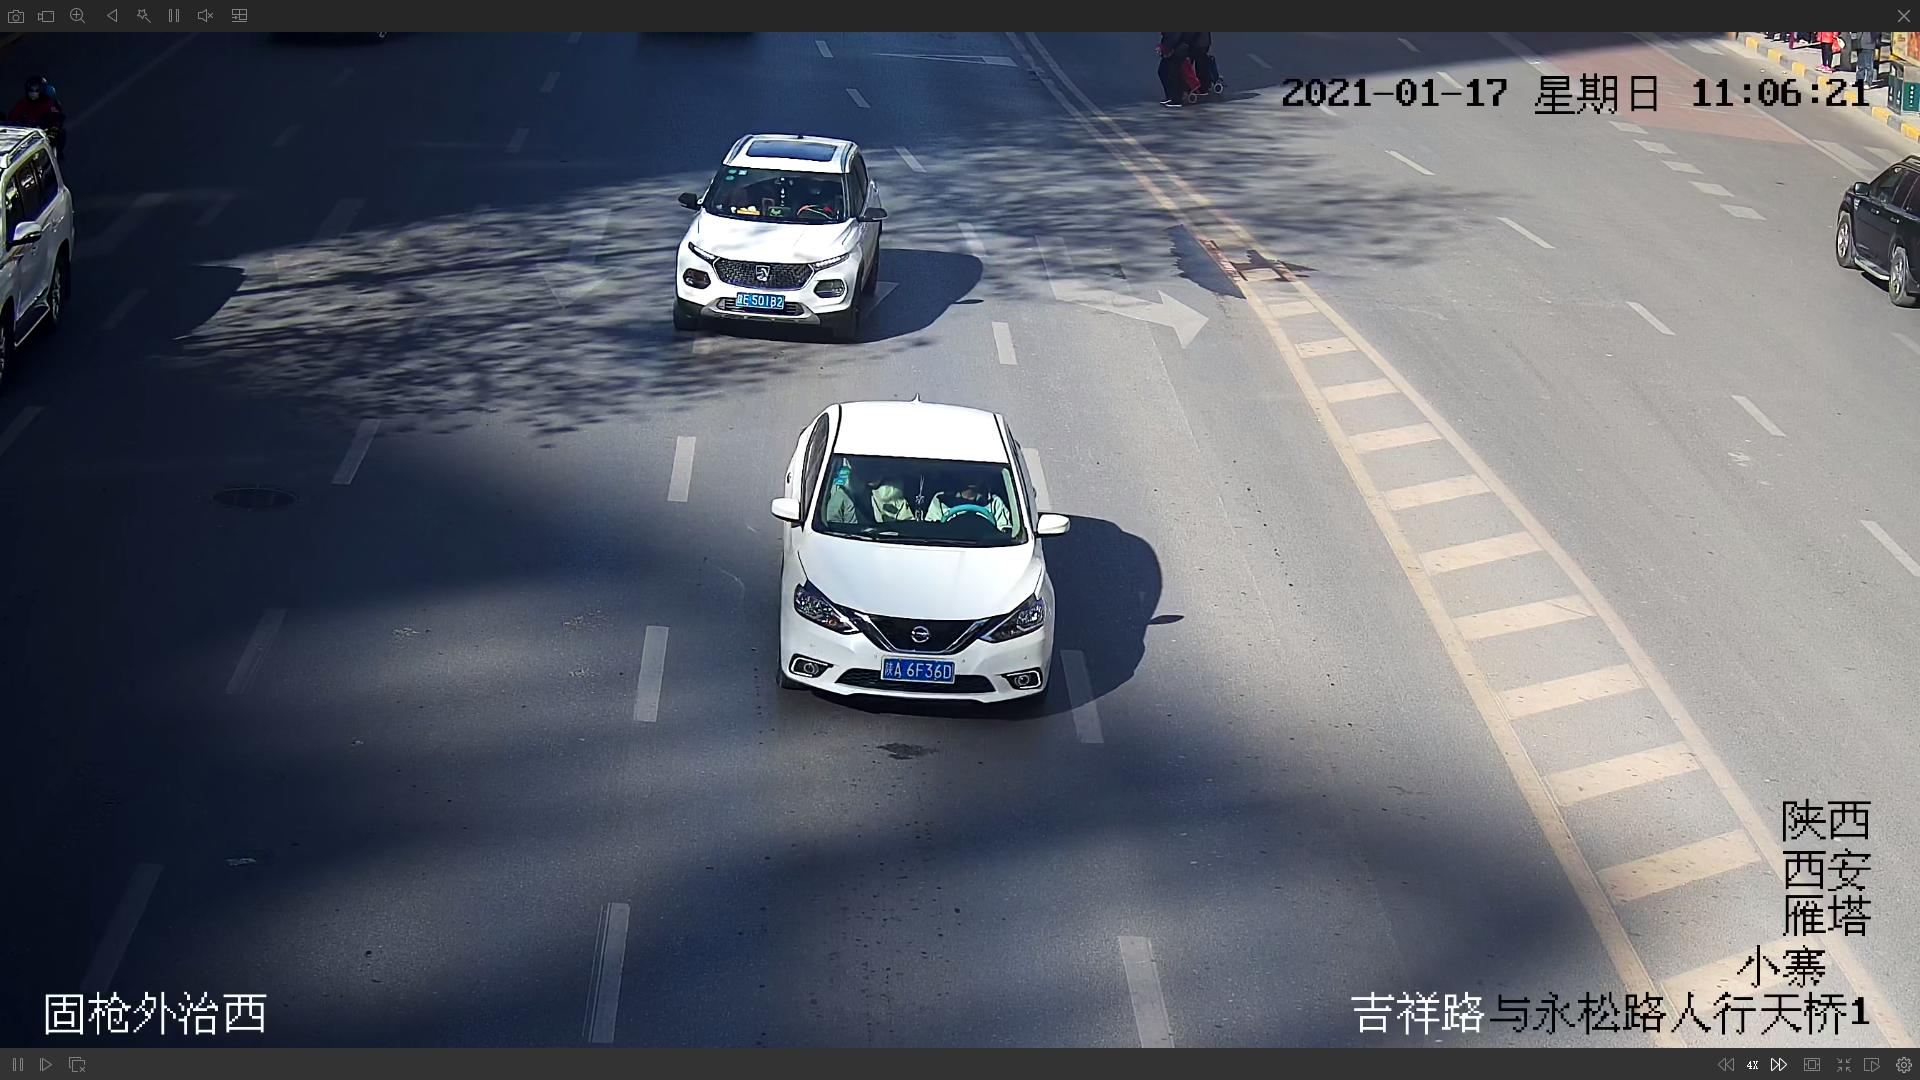white: (765, 397, 1065, 705), (676, 133, 884, 336)
